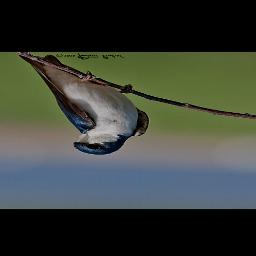Swallow: (18, 53, 150, 156)
